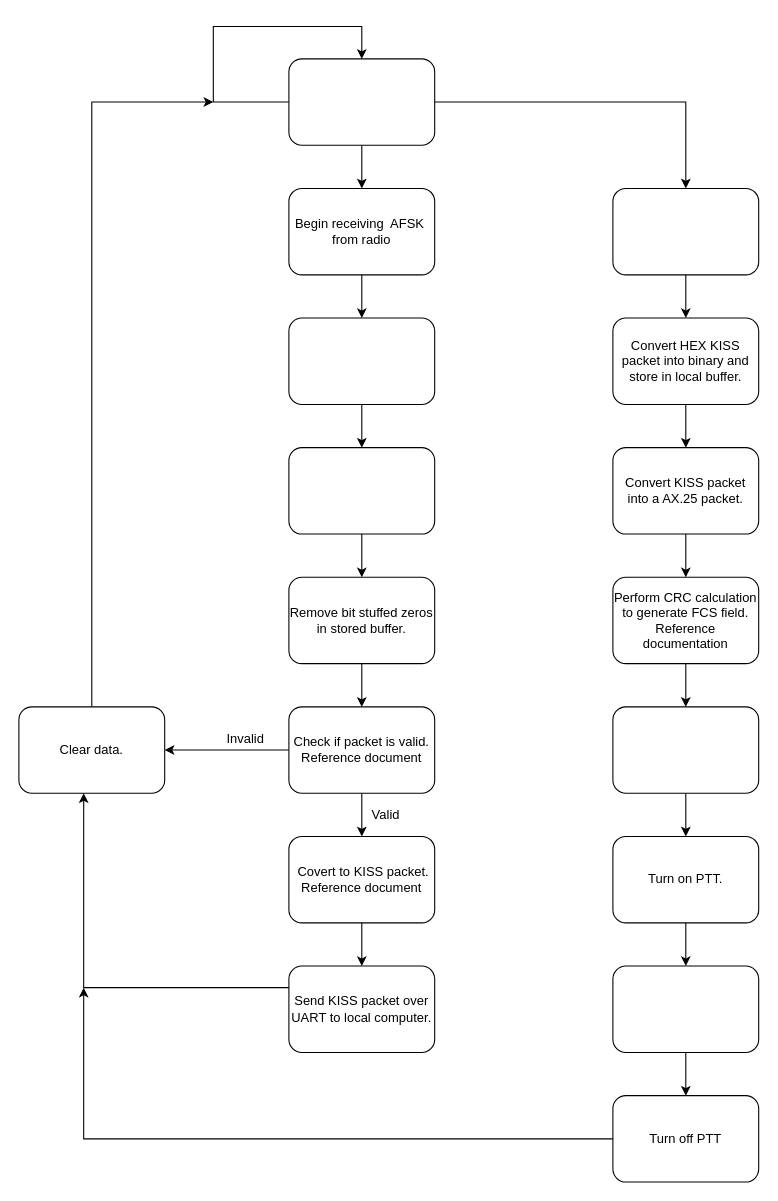
Image size: 778x1201. Some labels were removed from this diagram. The shapes that lost their labels are listed below. From the top down, each one's centre as x and y in pixels, then its label:
At [361,101]: "Run user program".
At [685,231]: "Received a KISS packet over UART and store in local buffer.".
At [361,360]: "Convert audio tones to binary using adc and timers.".
At [361,490]: "Capture data encapsulated between frame end flags and store in local buffer.".
At [685,749]: "Add bit stuffed zeros to AX.25 packet.".
At [685,1008]: "Transmit FSK NRZI encoded AX.25 packet through radio.".
